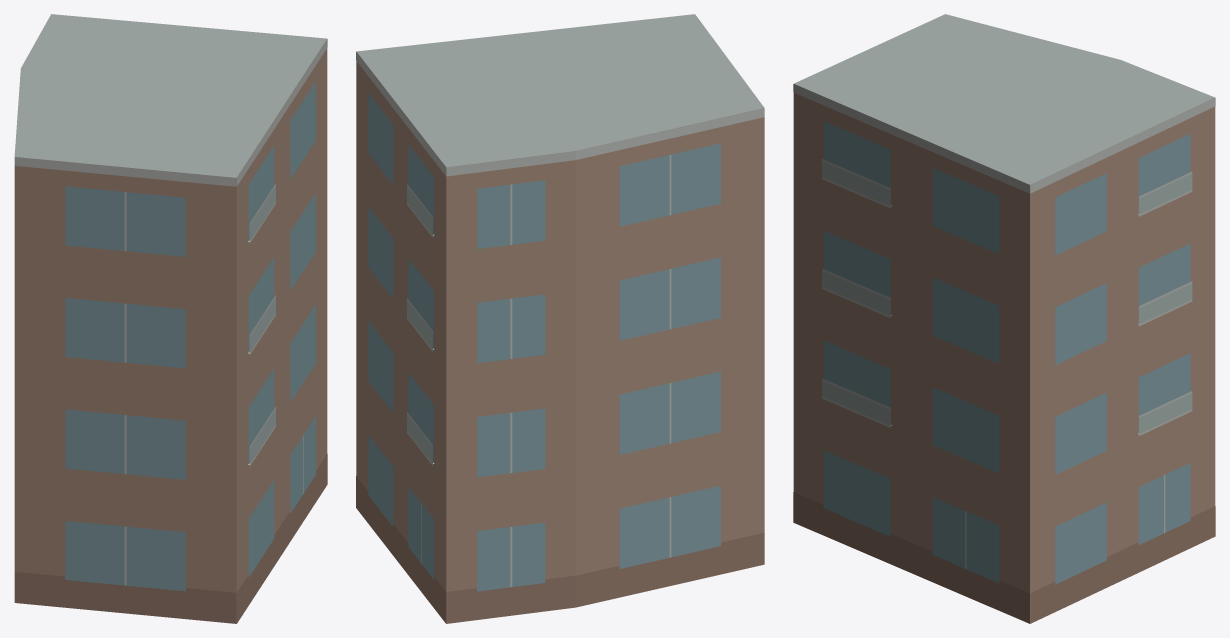
The model's file is survey-upis-32902091.glb.
3 views of the same model, side by side, from view 1: azimuth 30°, elevation 25°; view 2: azimuth 150°, elevation 25°; view 3: azimuth 270°, elevation 25° (orthographic). The views are drawn at different scales.
Visible parts, largest first — view 1: survey-upis-32902091.tmp; view 2: survey-upis-32902091.tmp; view 3: survey-upis-32902091.tmp.
Boxes of the visible parts, left/top/right/bottom form: survey-upis-32902091.tmp: left=14, top=14, right=327, bottom=623; survey-upis-32902091.tmp: left=356, top=14, right=764, bottom=623; survey-upis-32902091.tmp: left=793, top=14, right=1215, bottom=623.
Bounding box in the file's own units: 10.2 × 12.2 × 10.63.
